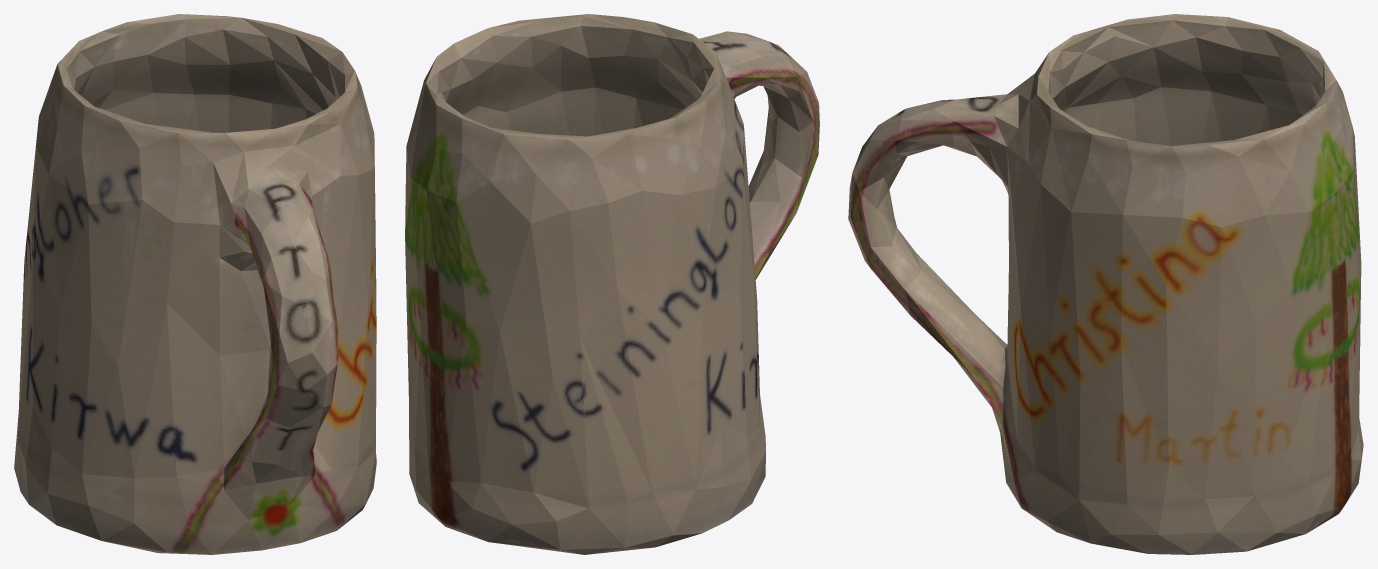
File: F1D4CD5E-BD3F-2048-8B89-DDA65F1E8B27_512.glb
3 views of the same model, side by side, from view 1: azimuth 30°, elevation 25°; view 2: azimuth 150°, elevation 25°; view 3: azimuth 270°, elevation 25° (orthographic).
Visible parts, largest first — view 1: Krug Steiningloh_0.8k_0.5k; view 2: Krug Steiningloh_0.8k_0.5k; view 3: Krug Steiningloh_0.8k_0.5k.
Boxes of the visible parts, bbox=[...] form: Krug Steiningloh_0.8k_0.5k: bbox=[14, 14, 376, 554]; Krug Steiningloh_0.8k_0.5k: bbox=[405, 14, 819, 554]; Krug Steiningloh_0.8k_0.5k: bbox=[848, 14, 1363, 554].
Size of the model in its own units: 0.1014 by 0.1275 by 0.1438.
1 material, 1 textured.
